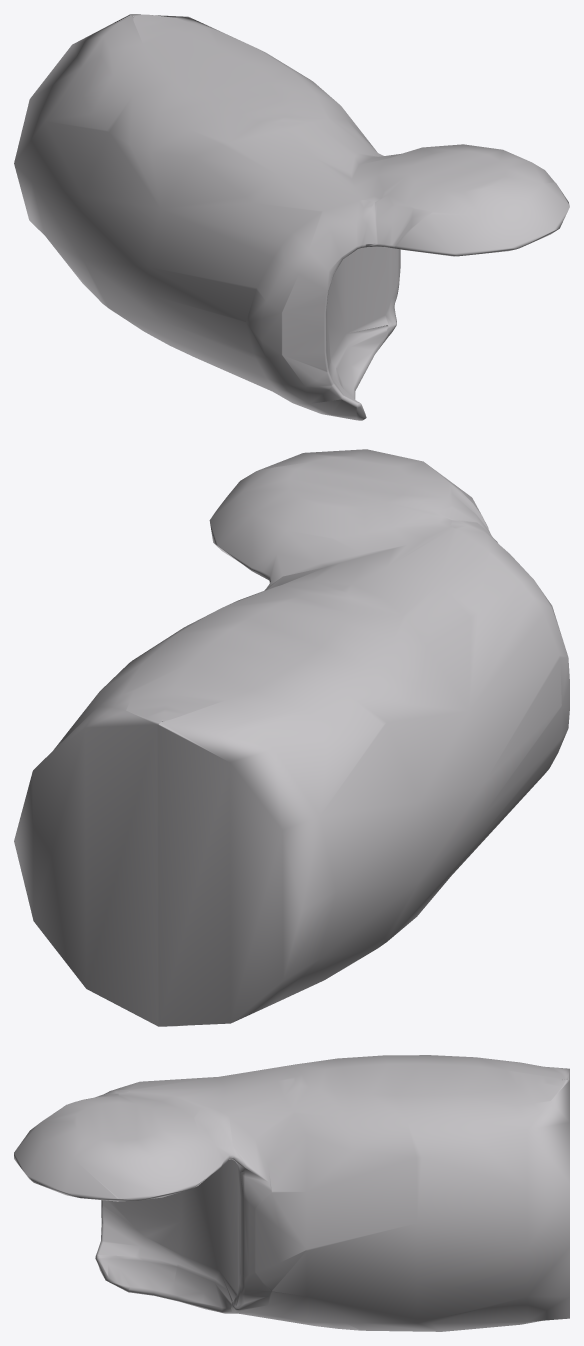
File: Left_Upper_Arm.dae
3 views of the same model, one above another, from view 1: azimuth 30°, elevation 25°; view 2: azimuth 150°, elevation 25°; view 3: azimuth 270°, elevation 25° (orthographic). The views are drawn at different scales.
Visible parts, largest first — view 1: Mesh; view 2: Mesh; view 3: Mesh.
Boxes of the visible parts, left/top/right/bottom form: Mesh: left=14, top=14, right=569, bottom=420; Mesh: left=14, top=449, right=569, bottom=1026; Mesh: left=14, top=1055, right=569, bottom=1331.
Size of the model in its own units: 0.1921 by 0.1422 by 0.3148.
1 material, 1 textured.
